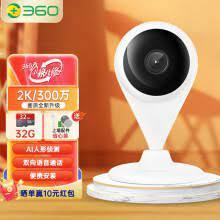maru: (110, 7, 207, 172)
